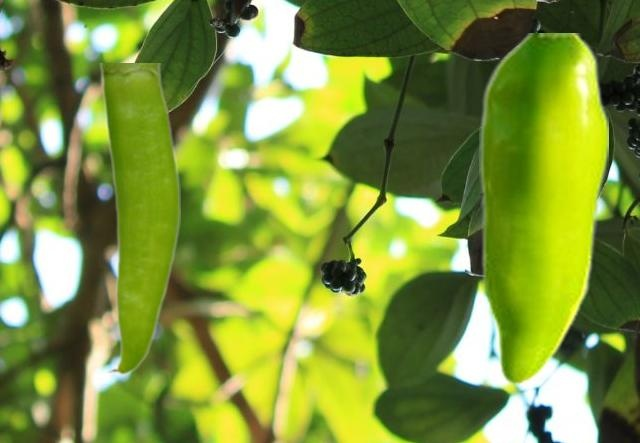green_chili: (479, 33, 607, 385), (98, 63, 179, 375)
